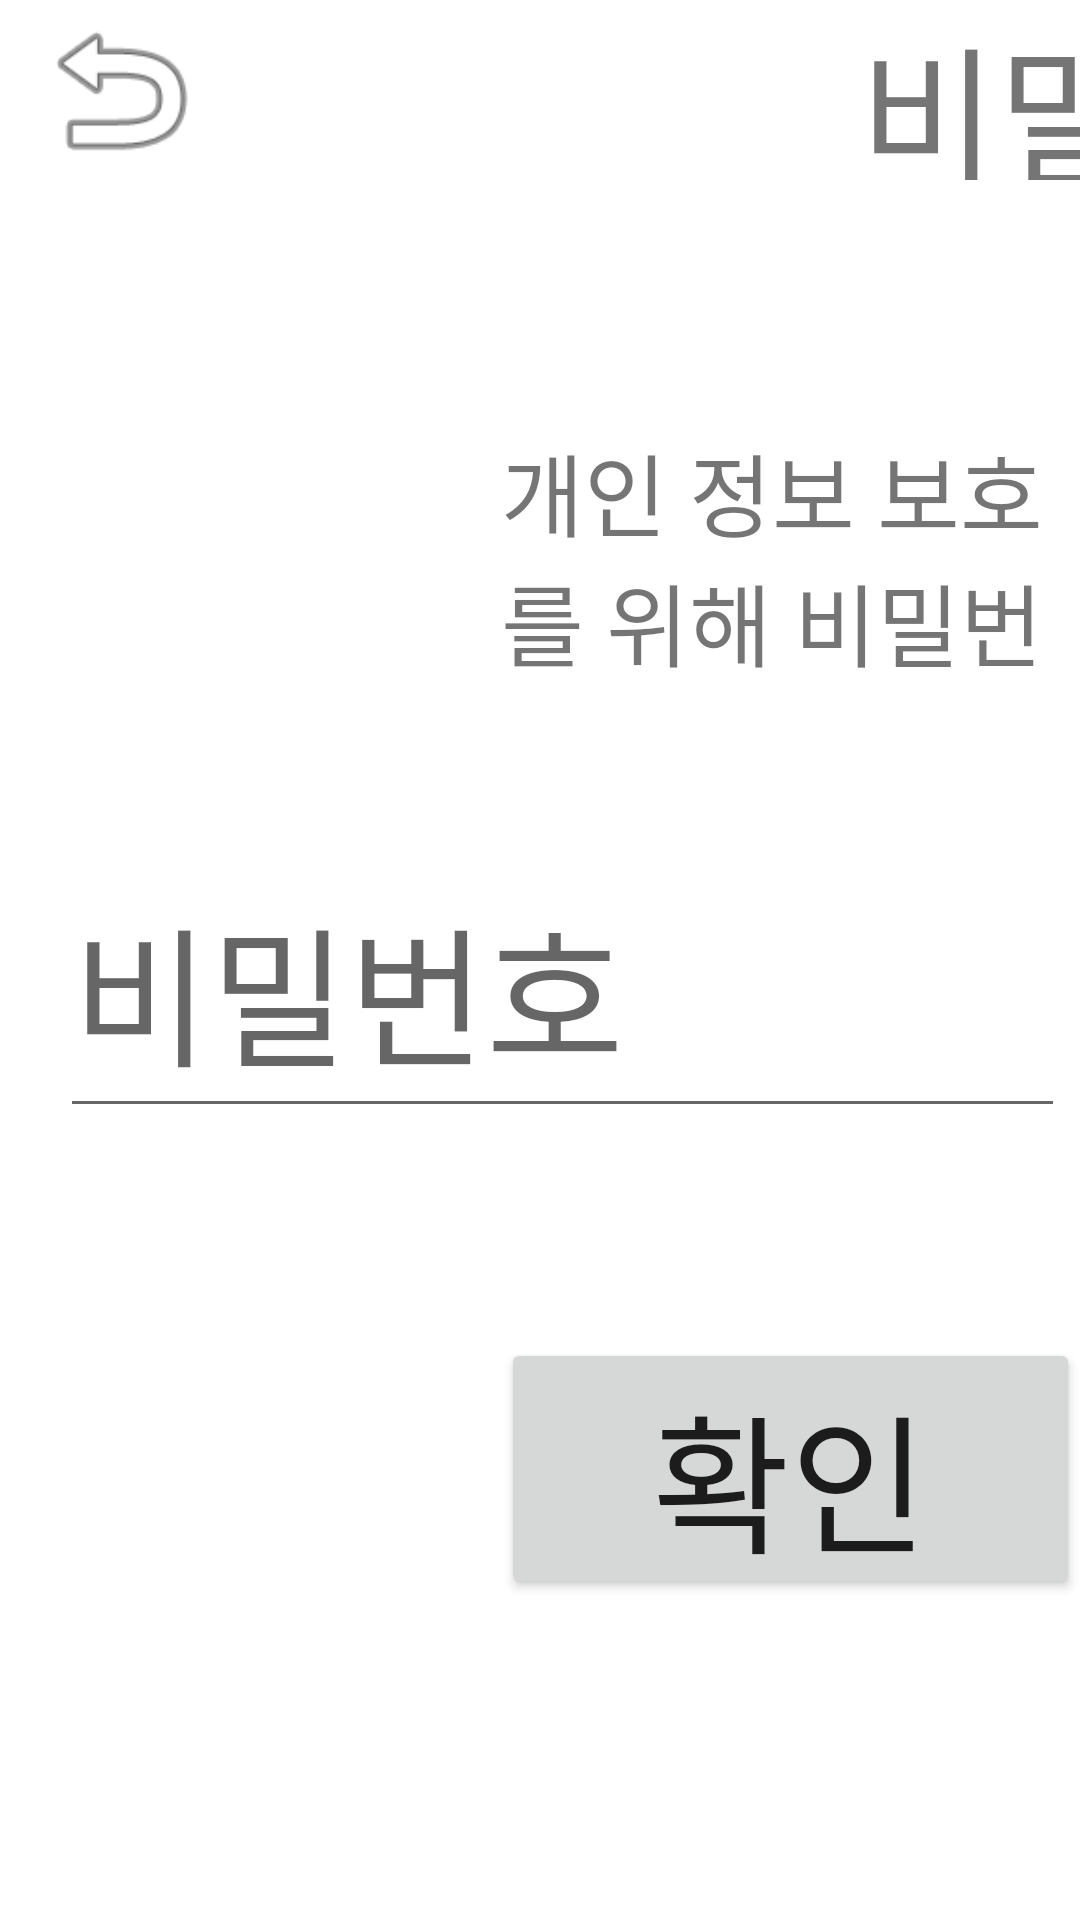

Icons on this 1080w x 1920h Android screen, each with its box as region(x1, y1, x2, y2):
revert: region(57, 32, 188, 150)
